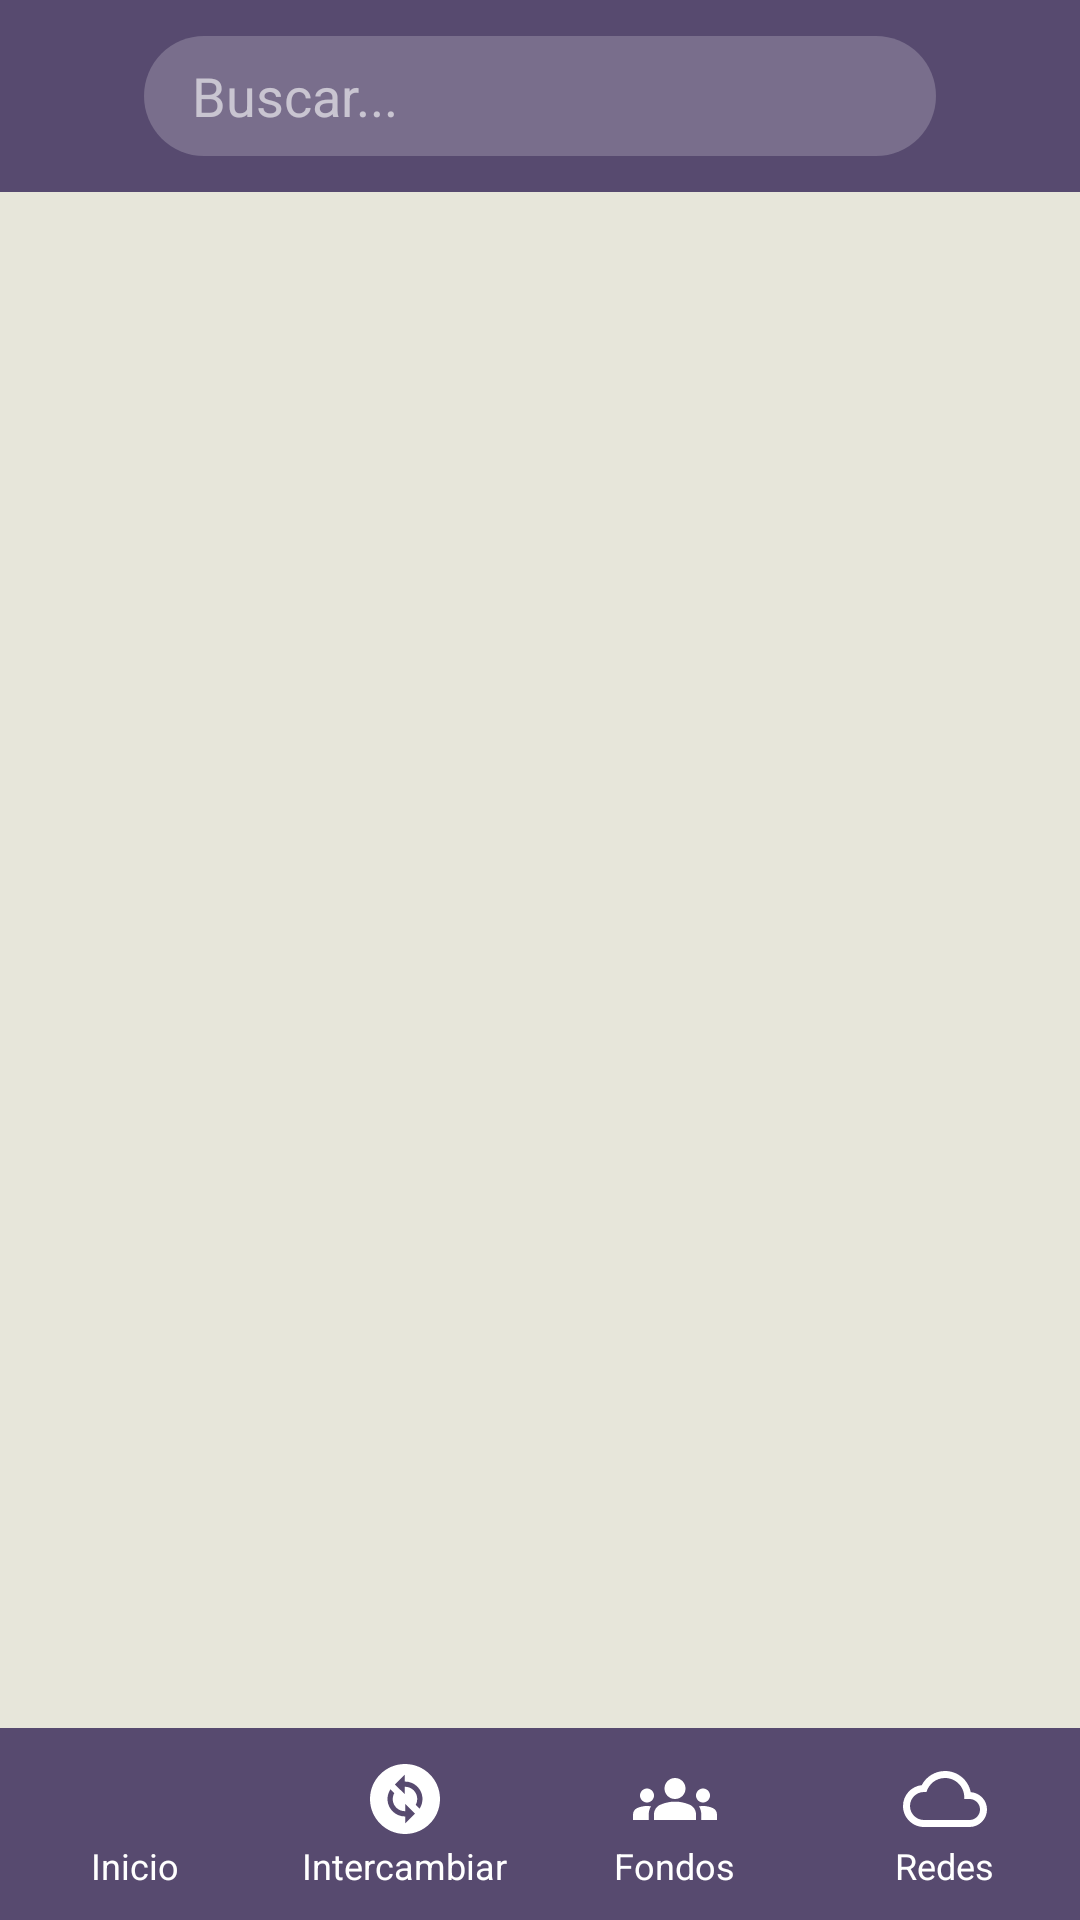

Named icons in this screenshot (1080x1920) and their centers, (x,y):
crowdfunding: (675,1799)
